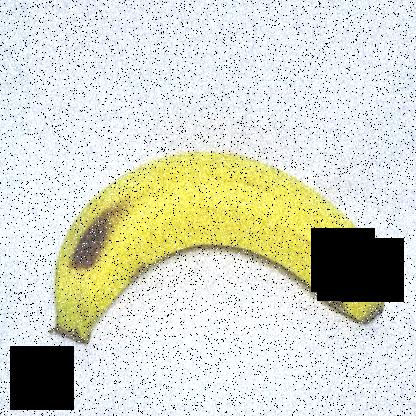freshripe: (34, 141, 398, 361)
